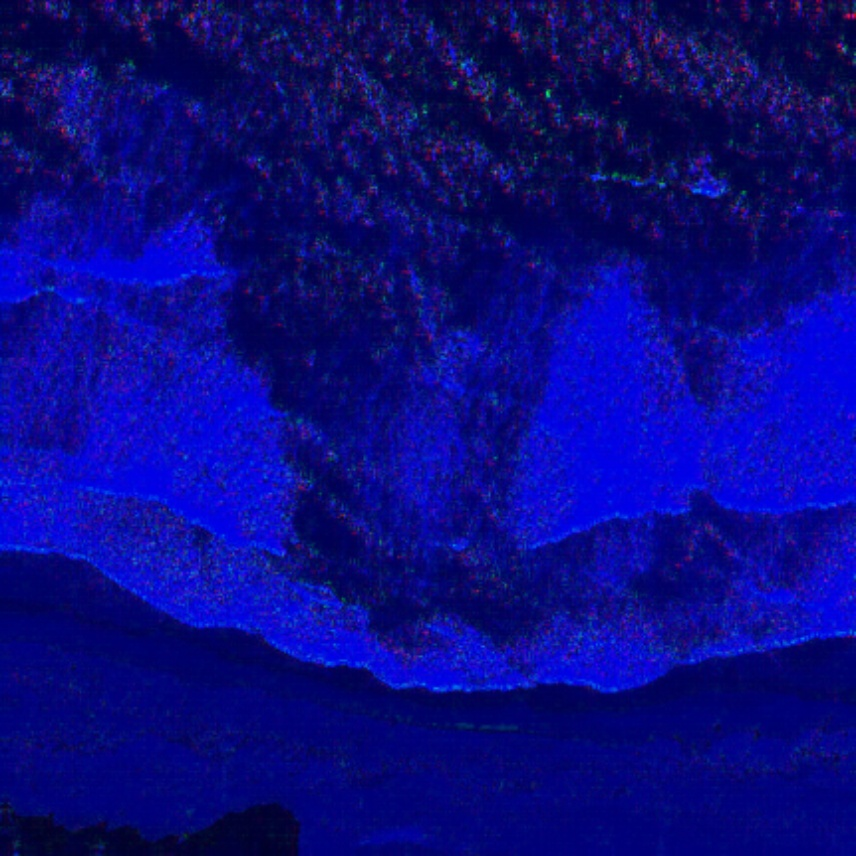rip_current: (192, 195, 587, 626)
